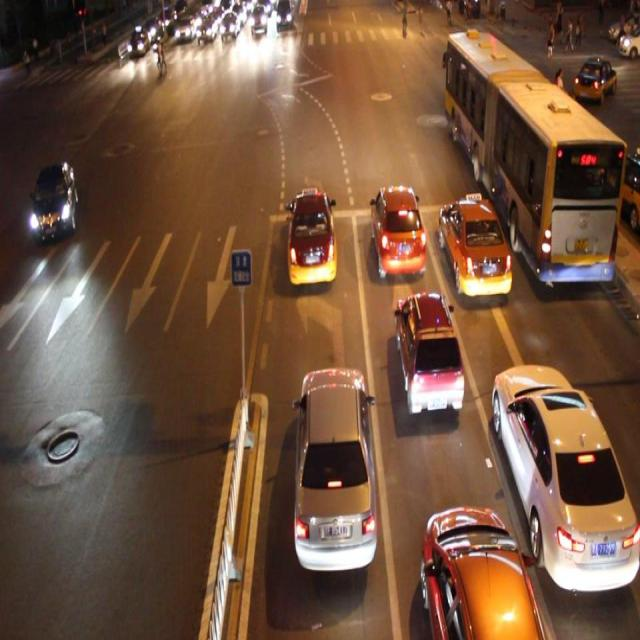car: (491, 365, 640, 589), (295, 366, 375, 580), (418, 505, 541, 640), (393, 289, 463, 416), (438, 194, 511, 297), (286, 186, 337, 286), (369, 186, 425, 276), (29, 159, 78, 240), (573, 54, 616, 98)
van: (442, 29, 627, 292)
